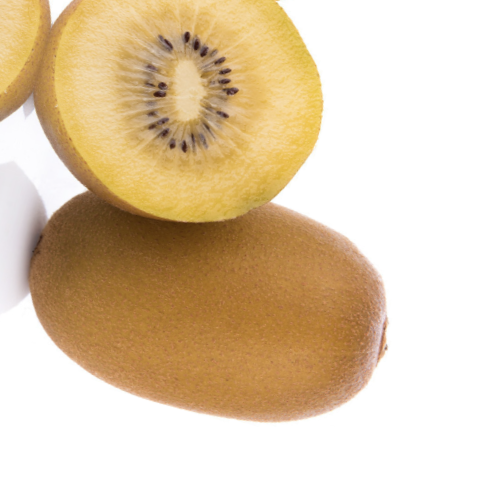kiwi: (0, 96, 441, 480)
